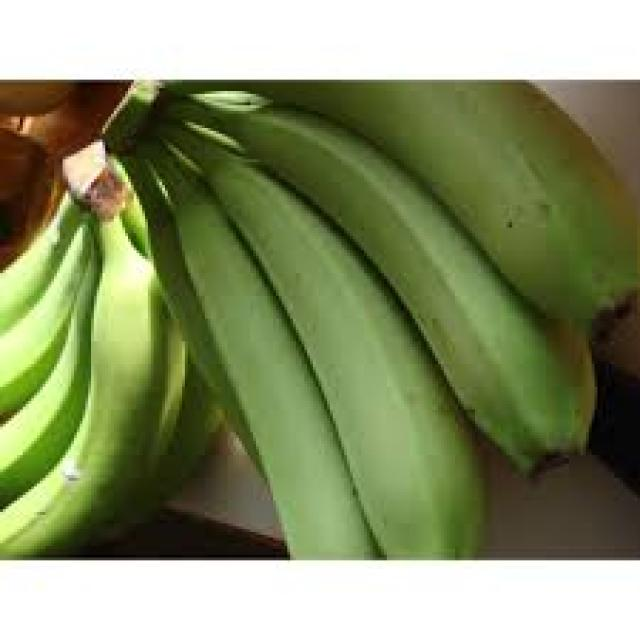Banana: (107, 81, 637, 564), (0, 139, 222, 559)
